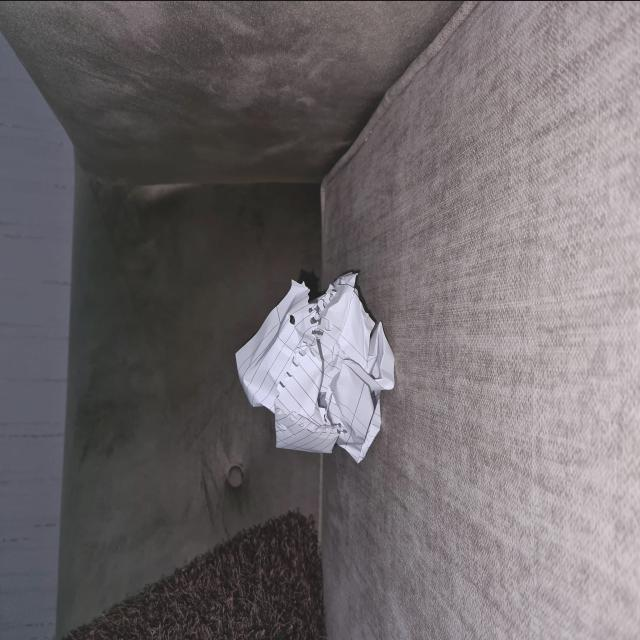Paper: (196, 271, 464, 505)
